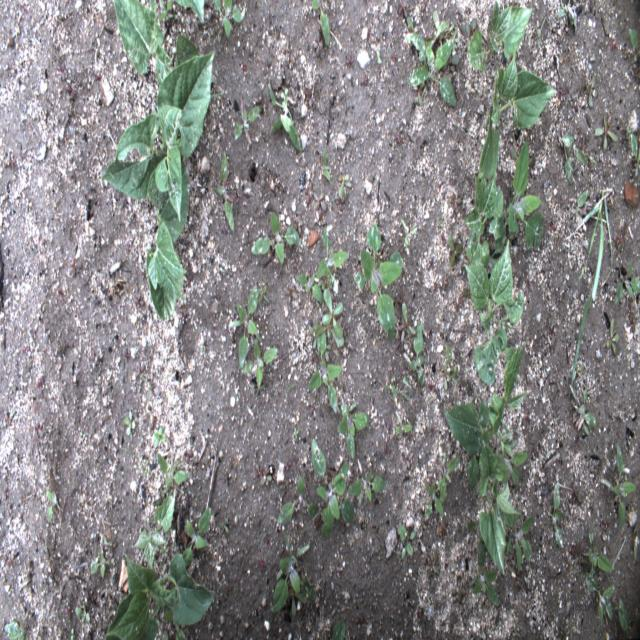crop: (98, 48, 220, 328), (443, 347, 541, 606), (465, 38, 558, 255), (102, 549, 217, 637), (462, 238, 527, 389), (113, 0, 208, 98), (462, 0, 534, 75), (130, 485, 177, 571), (178, 1, 207, 23)
weed: (274, 436, 389, 535), (562, 186, 613, 398), (353, 217, 406, 347), (582, 526, 632, 633), (406, 12, 457, 106), (266, 543, 314, 620), (306, 322, 344, 418), (246, 208, 303, 268), (268, 78, 306, 159), (315, 222, 350, 298), (424, 452, 460, 522), (612, 440, 637, 529), (236, 285, 261, 373), (240, 341, 280, 396), (333, 388, 370, 445), (182, 505, 209, 575), (156, 449, 194, 494), (319, 281, 348, 339), (213, 148, 234, 226), (561, 133, 589, 191), (545, 480, 567, 548), (573, 382, 598, 437), (210, 0, 247, 37), (232, 104, 264, 145), (310, 0, 335, 51), (591, 105, 618, 150), (295, 265, 326, 304), (409, 319, 426, 389), (556, 1, 585, 33), (400, 297, 420, 343), (614, 263, 638, 299), (626, 126, 640, 186), (395, 524, 415, 560), (604, 314, 620, 357), (124, 406, 139, 437), (153, 422, 169, 444), (160, 0, 175, 20)
